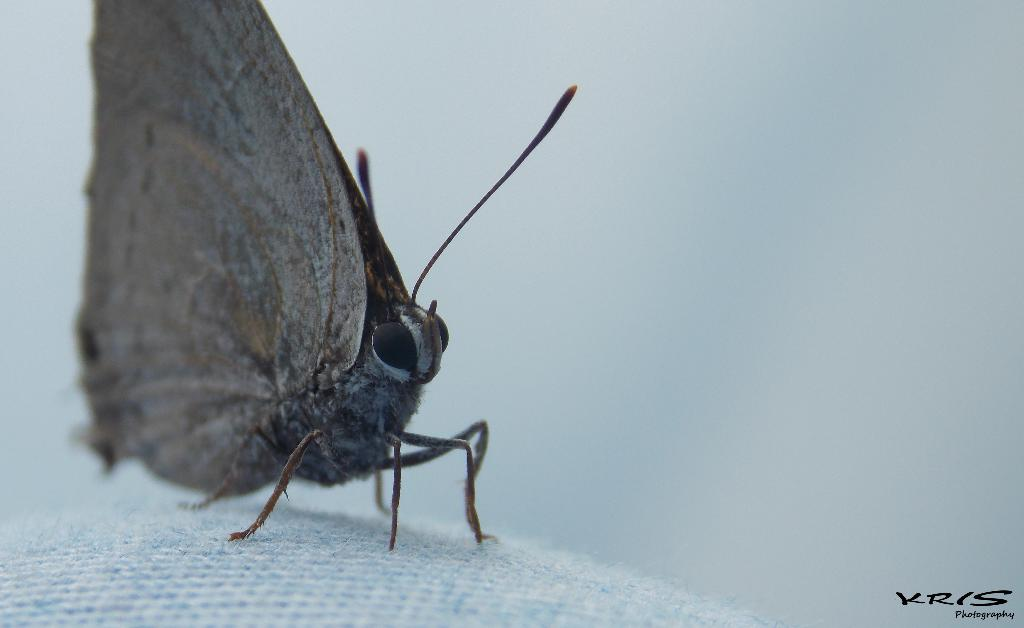Butterfly: (53, 1, 577, 560)
